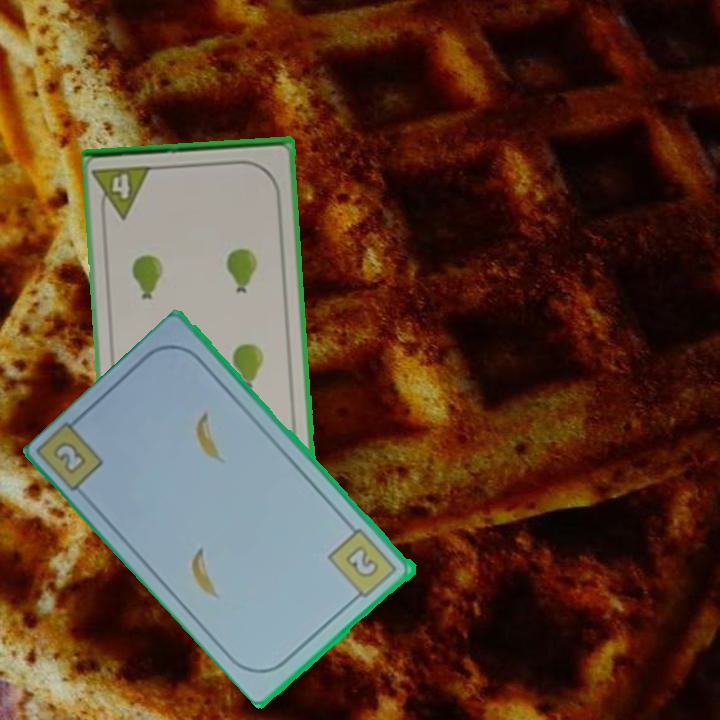2b: (325, 525, 401, 605), (50, 437, 90, 478)
4p: (91, 162, 156, 222)
